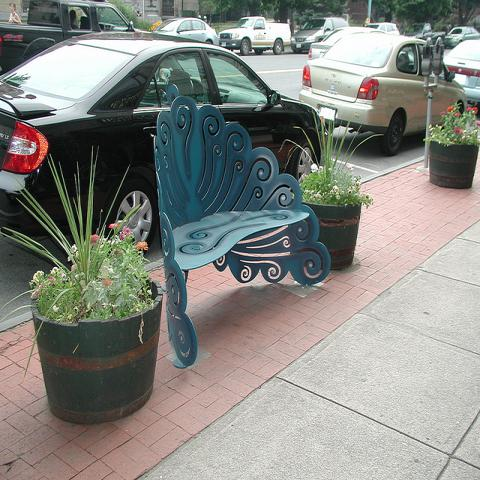car: (1, 32, 328, 250), (301, 33, 468, 154), (307, 25, 386, 62), (290, 14, 351, 53), (443, 38, 479, 104), (150, 17, 220, 48), (444, 25, 479, 48), (364, 22, 400, 35)
truck: (0, 4, 156, 87), (218, 16, 292, 57), (403, 22, 445, 47)
